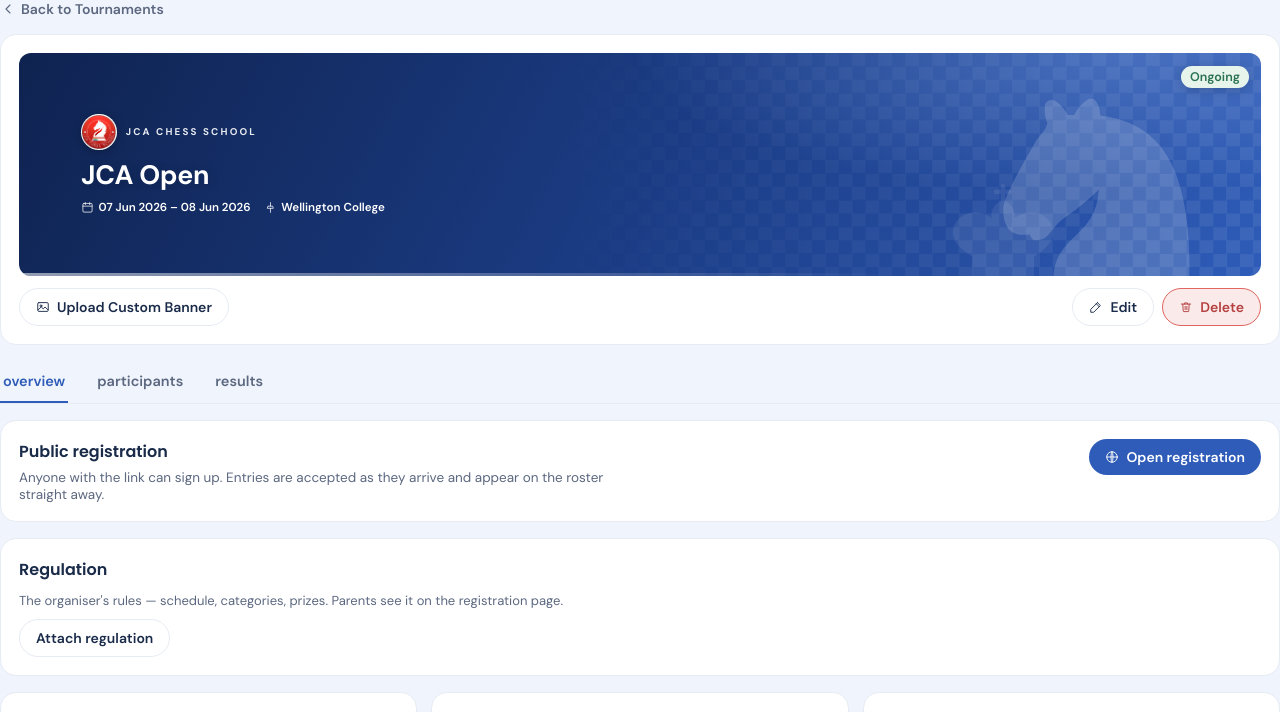
Scenario: editing a tournament in place › Cancel discards every staged change, category edits included
This screenshot has width=1280, height=712.
Click the button "Edit": (1113, 307) [1072,288,1154,326]
(page scrolled)
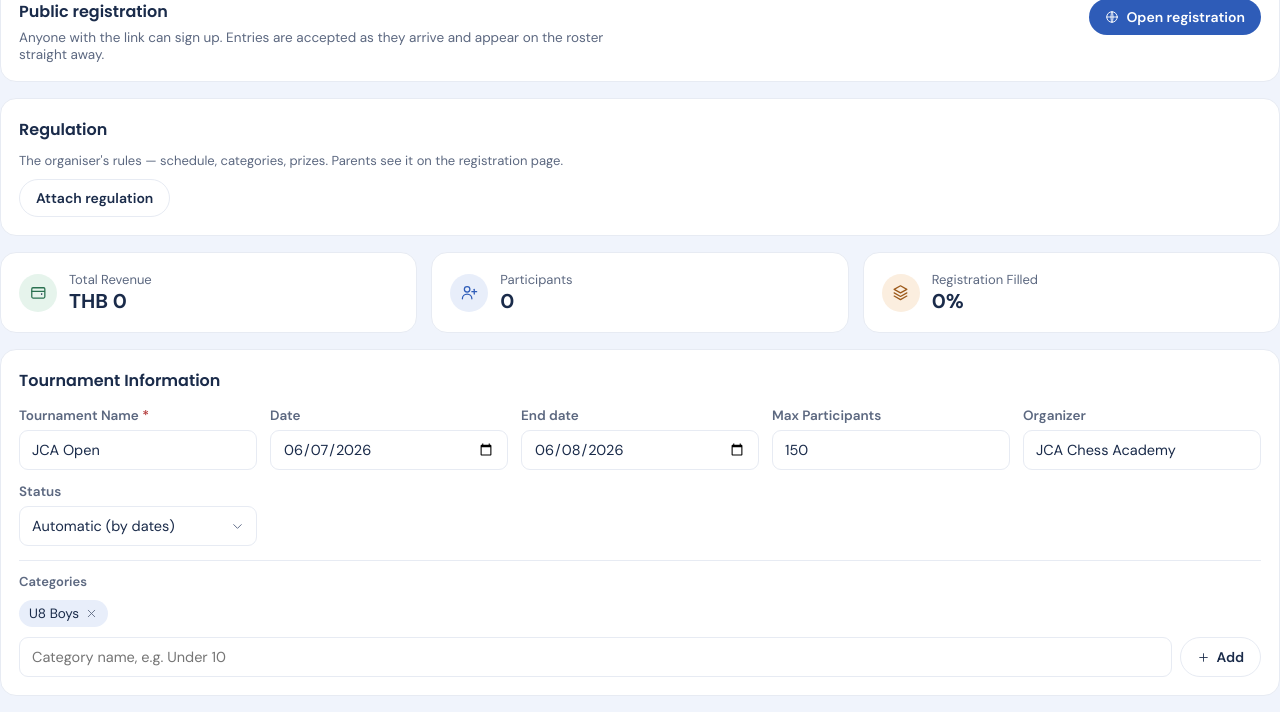
Replace the text in the field labelled "Tournament Name *" with "Something Else Entirely": (138, 450) [19,430,257,470]
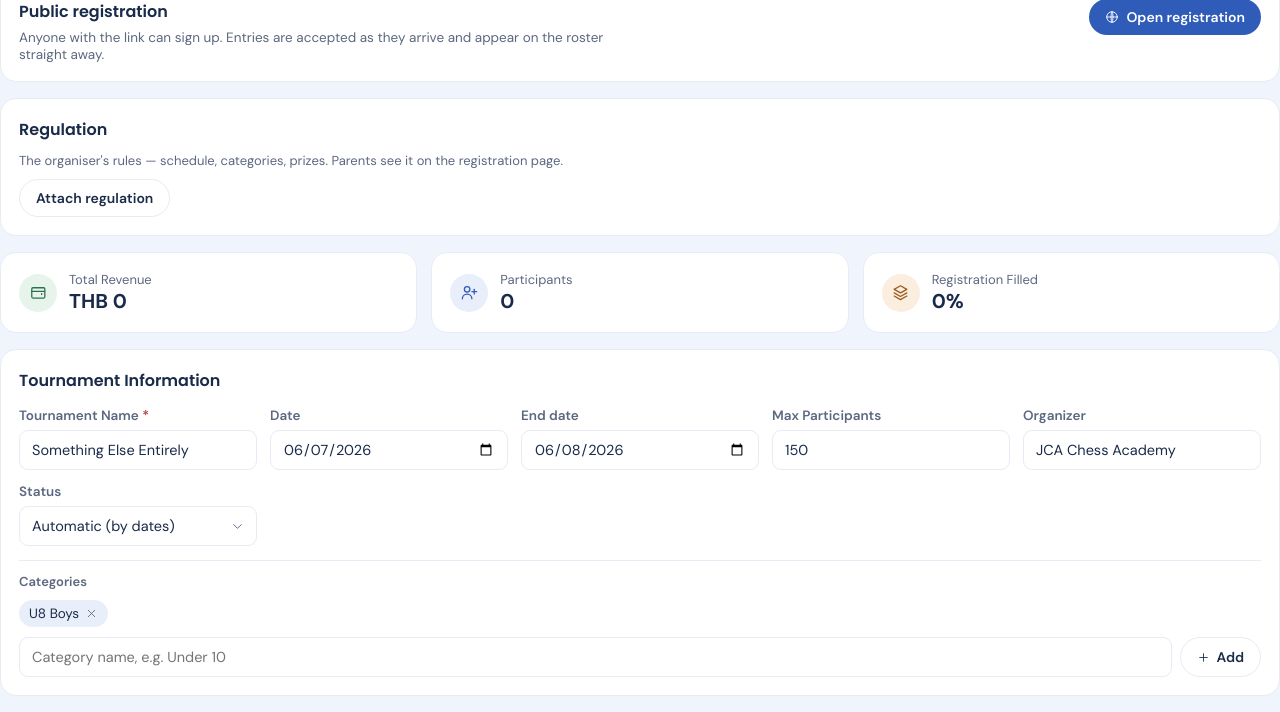
Click the button named "Delete U8 Boys": (92, 614) [85,607,98,620]
(page scrolled)
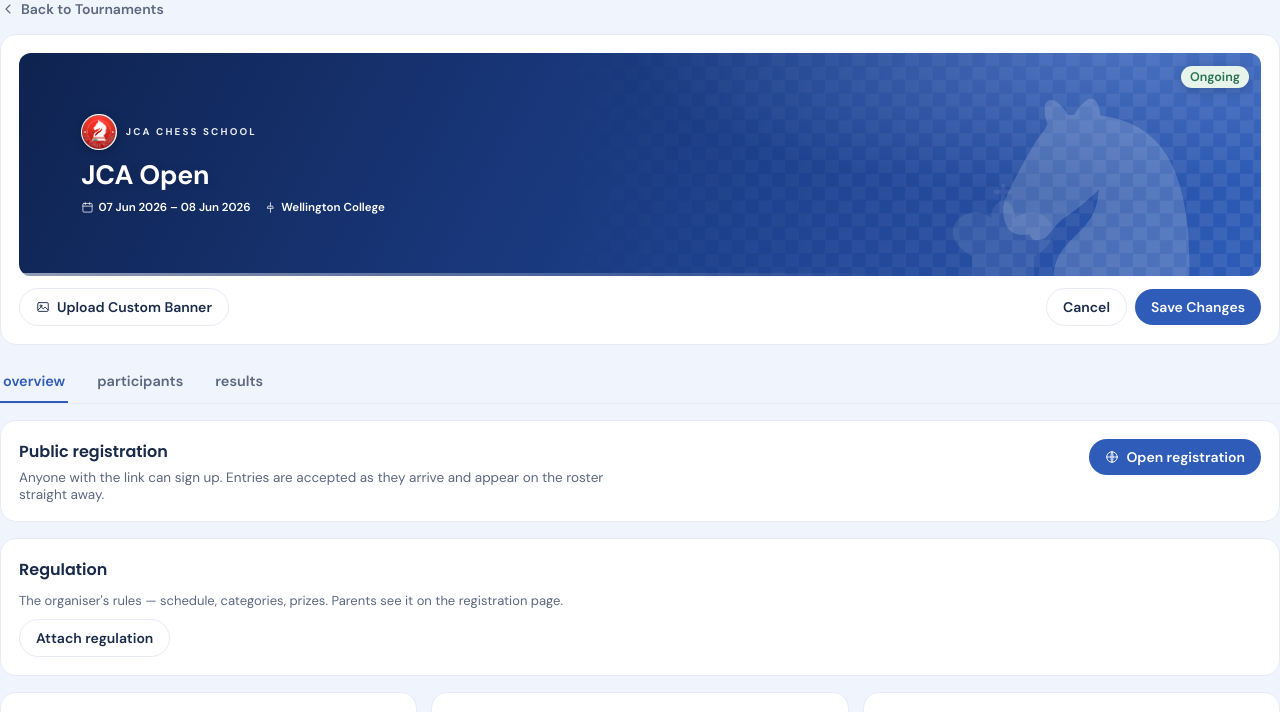
Click the button "Cancel": (1086, 307) [1046,288,1127,326]
(page scrolled)
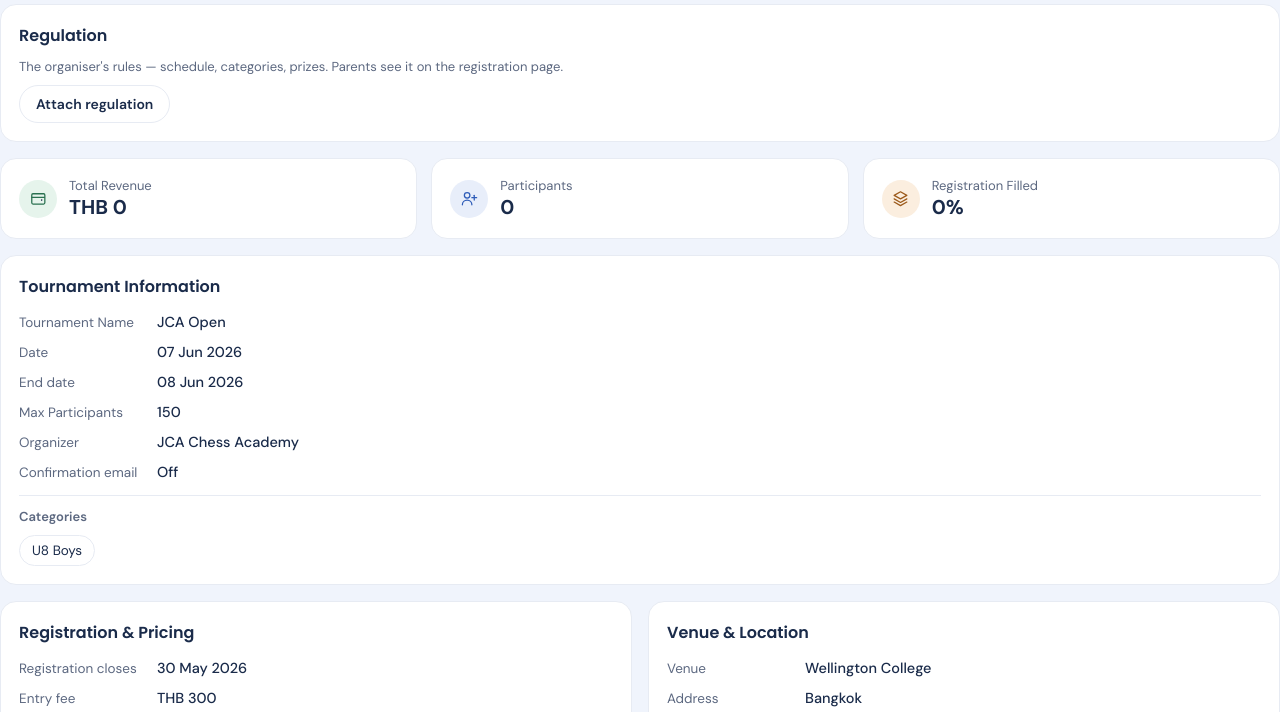
Expected: the text "Something Else Entirely" is not shown
Expected: the text "U8 Boys" is shown, [19,535,95,566]
